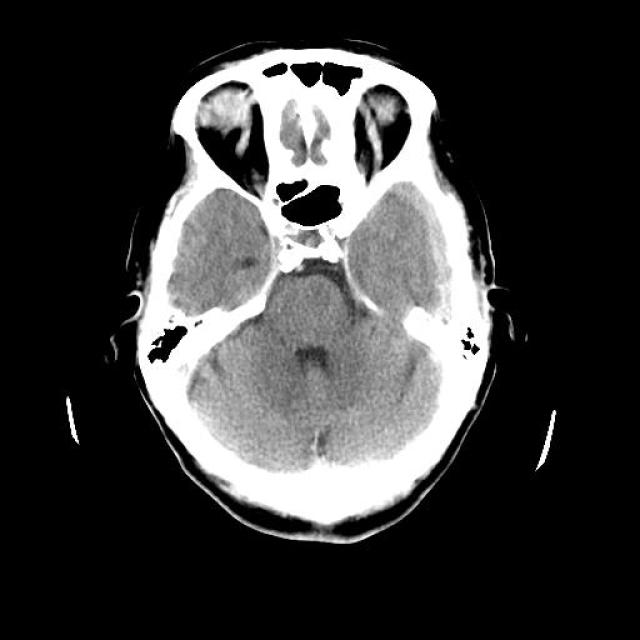Subdural: (382, 168, 472, 342)
